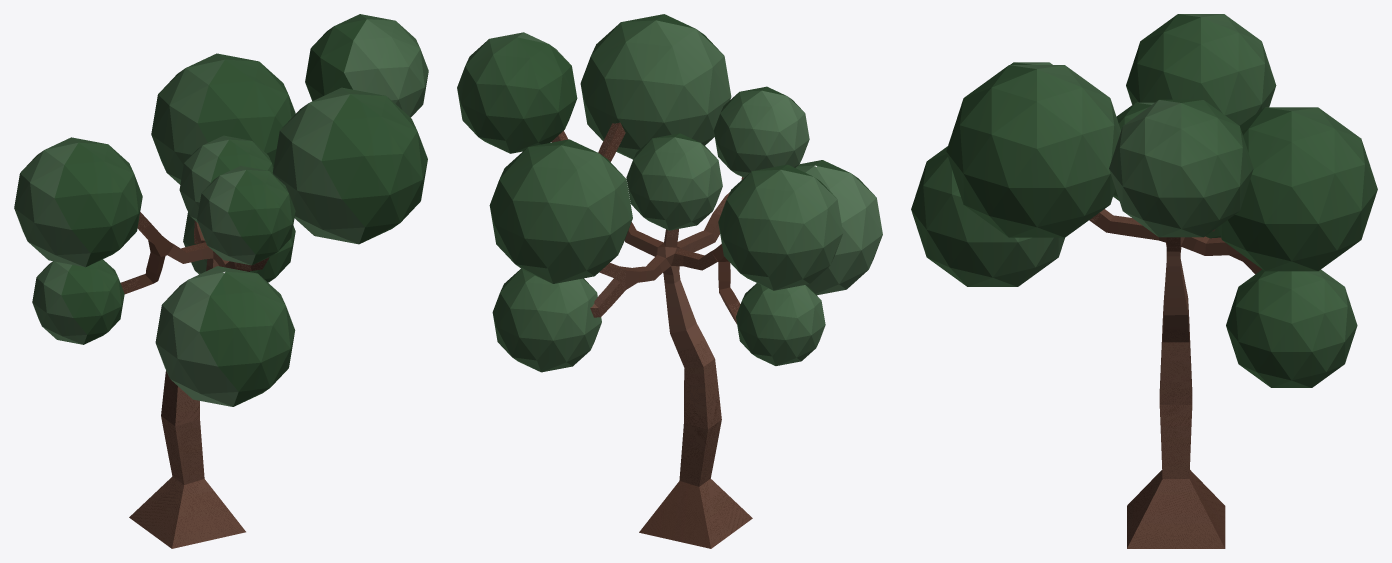
File: Arvore_Verde2.fbx
The picture shows the model from 3 angles, left to right: view 1: azimuth 30°, elevation 25°; view 2: azimuth 150°, elevation 25°; view 3: azimuth 270°, elevation 25°; orthographic projection. The views are drawn at different scales.
Visible parts, largest first — view 1: Icosphere.002; view 2: Icosphere.002; view 3: Icosphere.002.
Boxes of the visible parts, bbox=[...] form: Icosphere.002: bbox=[14, 14, 428, 548]; Icosphere.002: bbox=[457, 14, 882, 548]; Icosphere.002: bbox=[911, 14, 1377, 548].
Size of the model in its own units: 944 by 1075 by 864.
10 materials, 10 textured.
